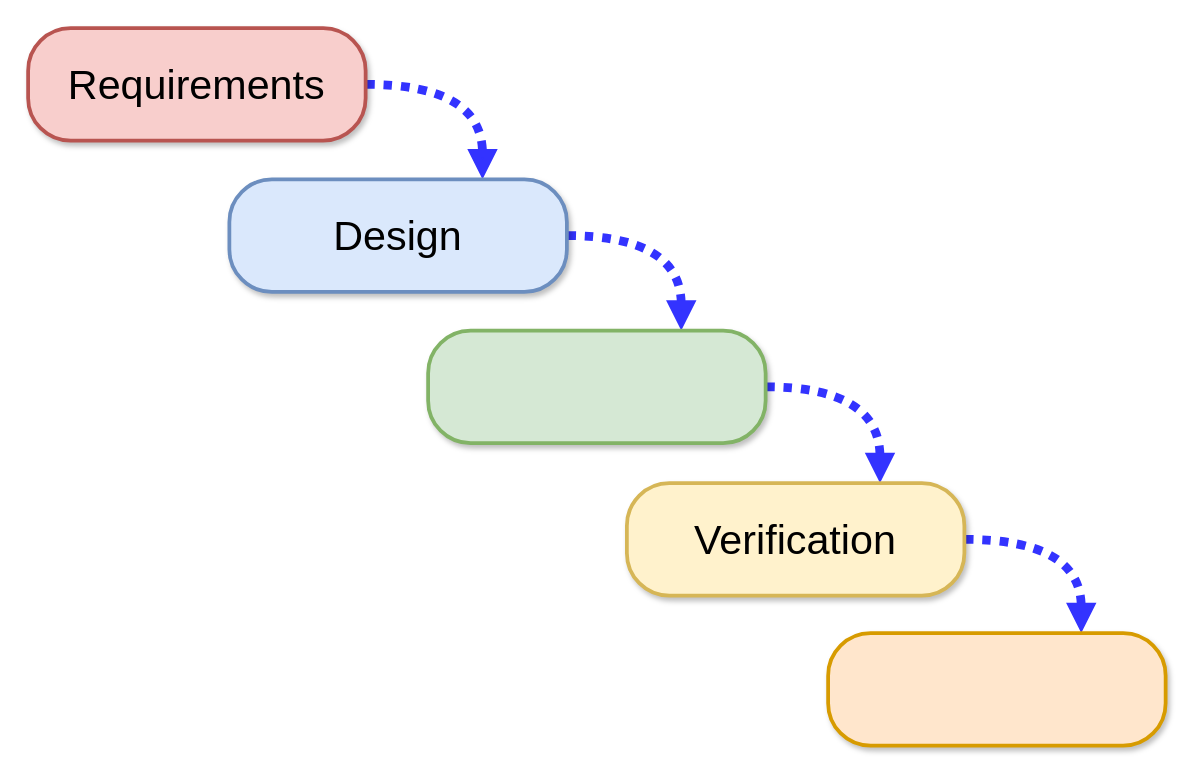
The diagram is 1196 pixels wide and 778 high, and some of its shapes have lost their labels. Each missing label, with the centre of its shape:
"Implementation" goes at [597,388].
"Maintenance" goes at [997,691].
